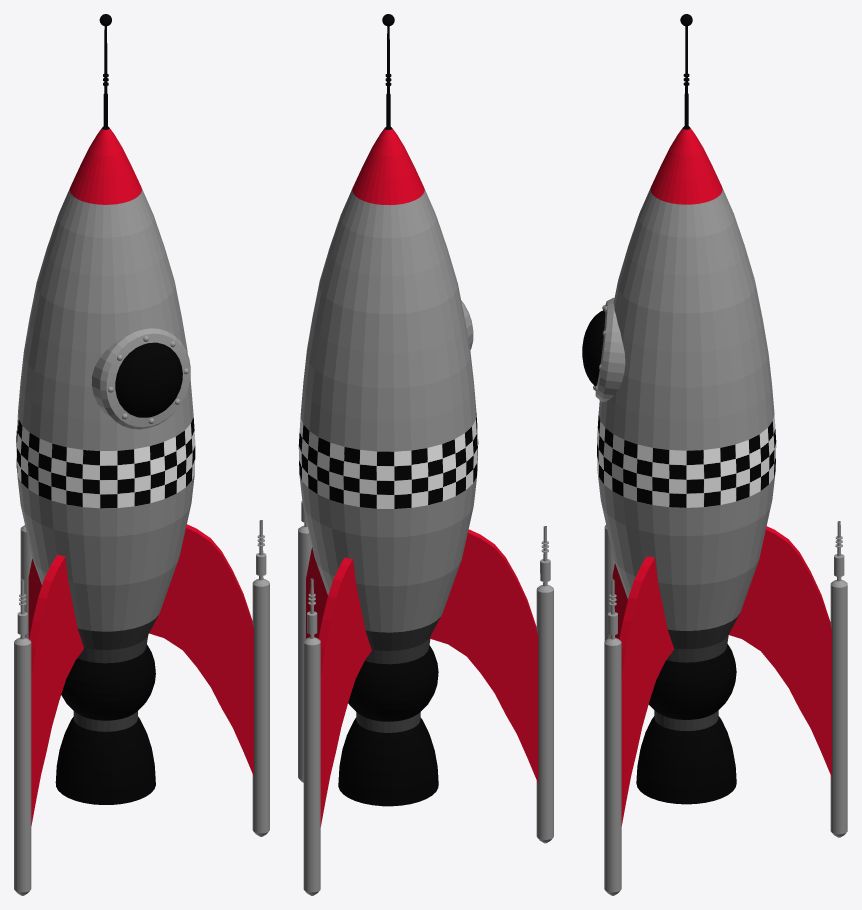
3 views of the same model, side by side, from view 1: azimuth 30°, elevation 25°; view 2: azimuth 150°, elevation 25°; view 3: azimuth 270°, elevation 25° (orthographic).
Visible parts, largest first — view 1: Body_3, Right Wing_7, Thruster_15, Left Wing_5, Left Rod_6, Thruster Sphere_9, Right Rod_8, Window_11, Window Hatch_12, Thruster Connector_10, Back Rod_14, Back Wing_13; view 2: Body_3, Left Wing_5, Thruster_15, Back Wing_13, Back Rod_14, Left Rod_6, Thruster Sphere_9, Right Rod_8, Right Wing_7, Thruster Connector_10; view 3: Body_3, Back Wing_13, Thruster_15, Right Wing_7, Right Rod_8, Back Rod_14, Thruster Sphere_9, Window Hatch_12, Window_11, Left Rod_6, Thruster Connector_10, Left Wing_5.
Boxes of the visible parts, left/top/right/bottom form: Body_3: left=16, top=26, right=195, bottom=663; Right Wing_7: left=149, top=524, right=253, bottom=776; Thruster_15: left=55, top=716, right=155, bottom=804; Left Wing_5: left=29, top=554, right=83, bottom=825; Left Rod_6: left=14, top=579, right=31, bottom=895; Thruster Sphere_9: left=61, top=644, right=155, bottom=720; Right Rod_8: left=252, top=520, right=269, bottom=836; Window_11: left=115, top=342, right=182, bottom=417; Window Hatch_12: left=91, top=328, right=190, bottom=429; Thruster Connector_10: left=73, top=711, right=137, bottom=731; Back Rod_14: left=20, top=525, right=32, bottom=638; Back Wing_13: left=28, top=559, right=41, bottom=638; Body_3: left=298, top=26, right=478, bottom=664; Left Wing_5: left=429, top=529, right=538, bottom=783; Thruster_15: left=338, top=717, right=438, bottom=806; Back Wing_13: left=318, top=557, right=371, bottom=826; Back Rod_14: left=303, top=578, right=320, bottom=895; Left Rod_6: left=536, top=526, right=553, bottom=843; Thruster Sphere_9: left=348, top=645, right=438, bottom=721; Right Rod_8: left=298, top=501, right=311, bottom=782; Right Wing_7: left=306, top=547, right=327, bottom=638; Thruster Connector_10: left=356, top=712, right=420, bottom=732; Body_3: left=597, top=26, right=776, bottom=662; Back Wing_13: left=728, top=526, right=831, bottom=777; Thruster_15: left=636, top=716, right=736, bottom=804; Right Wing_7: left=619, top=556, right=673, bottom=825; Right Rod_8: left=604, top=579, right=621, bottom=895; Back Rod_14: left=830, top=521, right=847, bottom=837; Thruster Sphere_9: left=648, top=643, right=736, bottom=719; Window Hatch_12: left=595, top=297, right=625, bottom=401; Window_11: left=582, top=310, right=605, bottom=386; Left Rod_6: left=604, top=525, right=614, bottom=640; Thruster Connector_10: left=654, top=710, right=718, bottom=731; Left Wing_5: left=612, top=563, right=627, bottom=639.
Bounding box in the file's own units: 2.57 × 7.98 × 2.33.
Materials: 6 (1 with a texture image).
